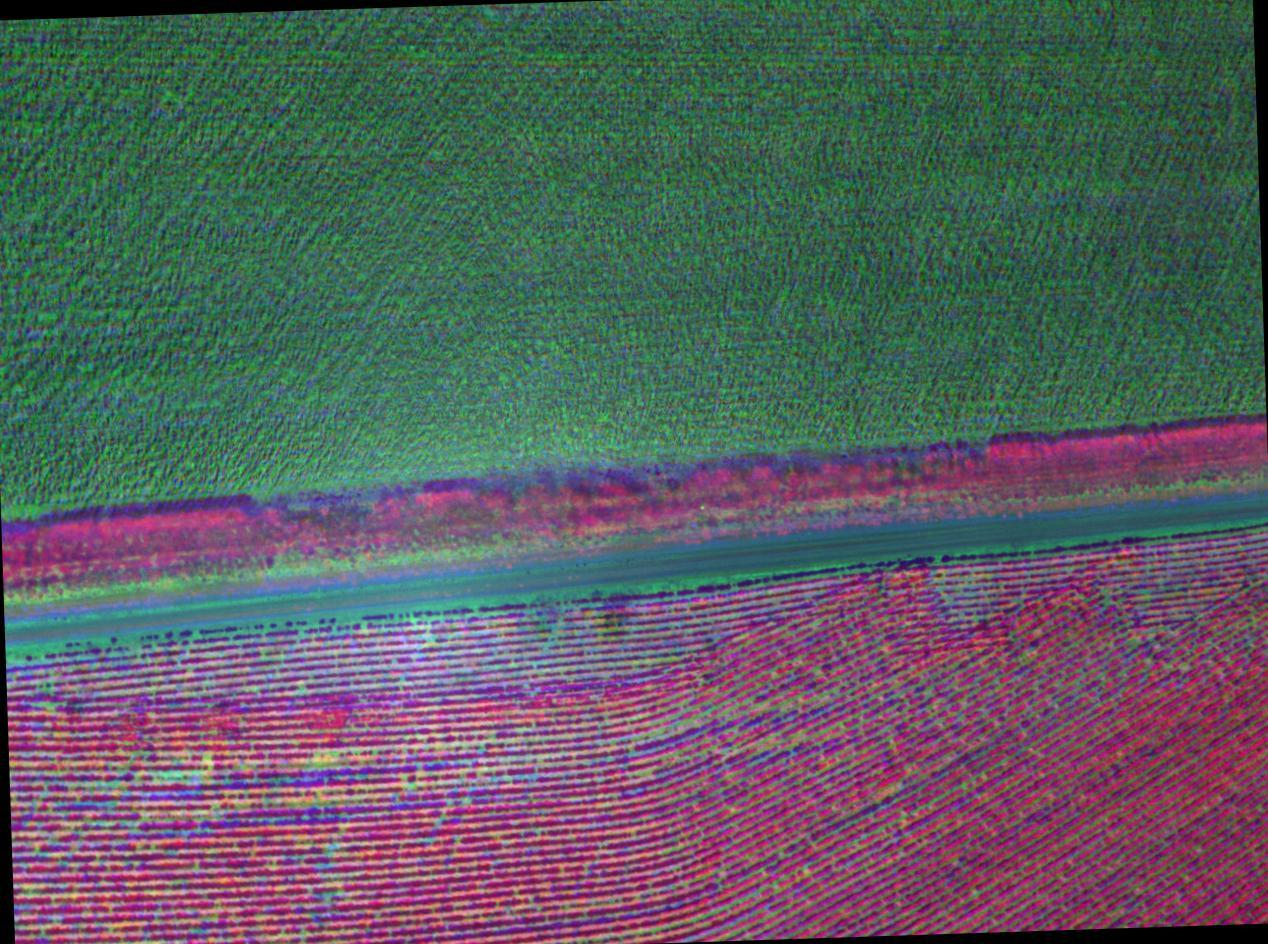dc: (123, 742, 259, 804), (301, 741, 445, 798)
